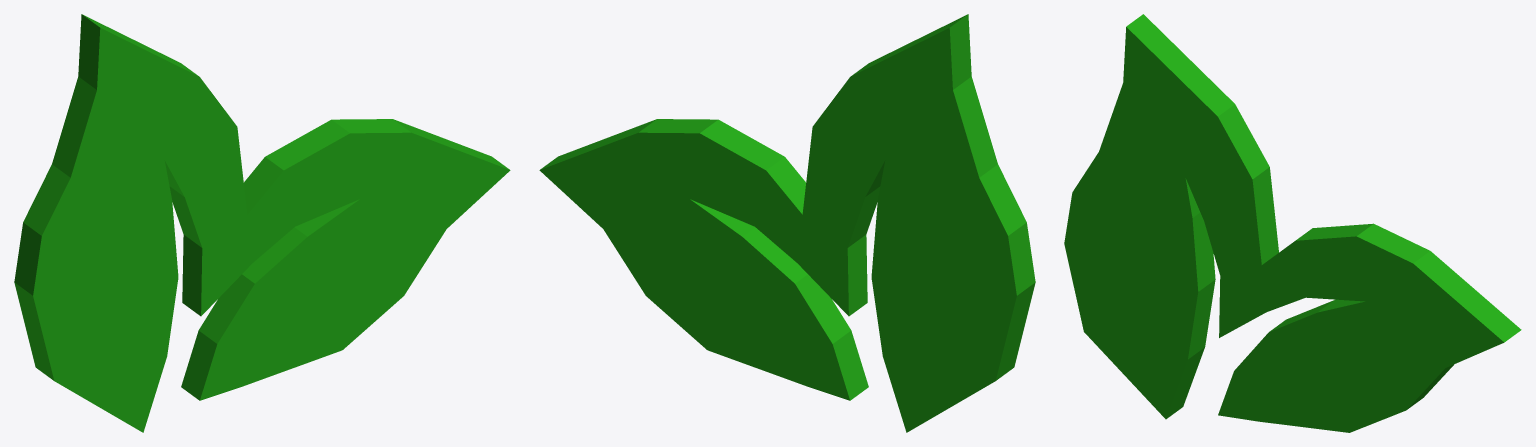
File: leaf.fbx
3 views of the same model, side by side, from view 1: azimuth 30°, elevation 25°; view 2: azimuth 150°, elevation 25°; view 3: azimuth 330°, elevation 25° (orthographic). The views are drawn at different scales.
Visible parts, largest first — view 1: Leaf; view 2: Leaf; view 3: Leaf.
Part boxes in pixels (box(x1,y1,x2,y2)): Leaf: box(14, 14, 510, 432); Leaf: box(539, 14, 1035, 432); Leaf: box(1064, 14, 1521, 432).
Size of the model in its own units: 611 by 509 by 41.59.
